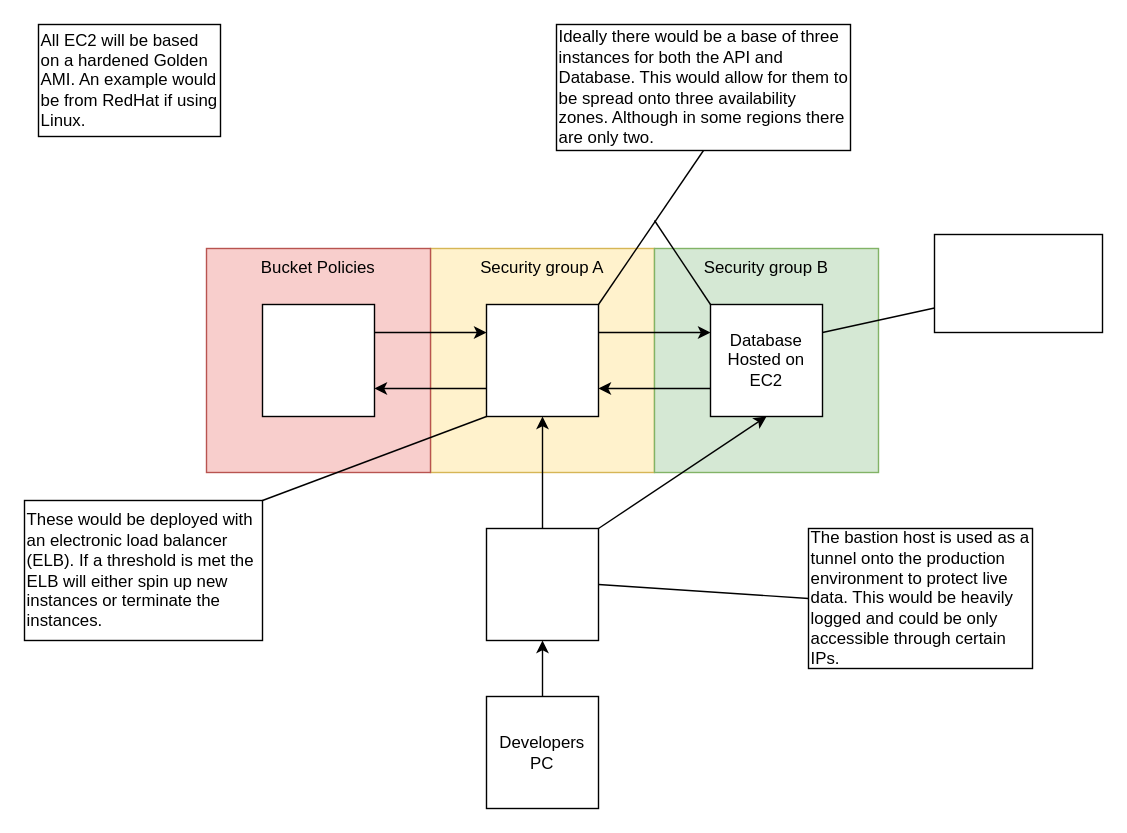
Some shapes in this 1127 by 833 pixel diagram are drawn without their labels. Here are the shapes that lost their labels. From the top down, the centre of each, then its label:
[1017,282]: Dependent of the scalability of the database these can be deployed with an ELB
[317,359]: Website Hosted on S3
[541,359]: API Hosted on EC2
[541,583]: Bastion Host Hosted on an EC2
